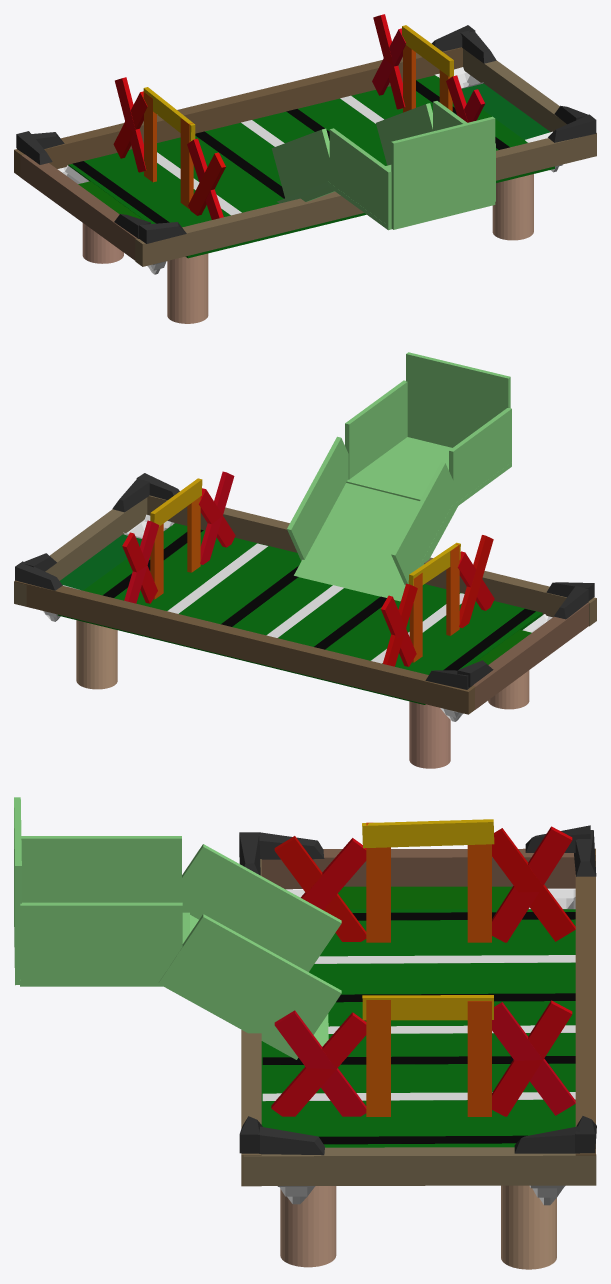
File: tablelevel5 (2).fbx
3 renders of one model, top to bottom at view 1: azimuth 30°, elevation 25°; view 2: azimuth 150°, elevation 25°; view 3: azimuth 270°, elevation 25°, orthographic. The views are drawn at different scales.
Visible parts, largest first — view 1: Cube, Cube.017, Cube.001, Cube.002, Cube.003, Cube.015, Cube.040, Cube.004, Cylinder.001, Cylinder.002, Plane.005, Cube.041 (+25 smaller); view 2: Cube, Cube.002, Cube.039, Cube.017, Cube.001, Cube.013, Cube.014, Cube.003, Cube.040, Cube.015, Cube.041, Cube.004 (+30 smaller); view 3: Cube, Cube.014, Cube.004, Cube.041, Cube.015, Cube.040, Cube.003, Cube.002, Cylinder.003, Cylinder.002, Cube.024, Cube.018 (+30 smaller).
Boxes of the visible parts, x1,y1,x2,y2 form: Cube: (68,75,554,258); Cube.017: (391,116,495,229); Cube.001: (135,133,596,266); Cube.002: (14,47,462,176); Cube.003: (20,154,137,260); Cube.015: (329,128,391,228); Cube.040: (271,128,337,201); Cube.004: (463,48,566,131); Cylinder.001: (167,253,208,323); Cylinder.002: (492,174,533,240); Plane.005: (461,83,550,140); Cube.041: (376,103,432,165); Cube: (57,523,542,704); Cube.002: (14,580,475,714); Cube.039: (294,483,452,601); Cube.017: (406,352,510,447); Cube.001: (147,495,596,626); Cube.013: (346,437,511,509); Cube.014: (345,380,407,479); Cube.003: (473,602,588,709); Cube.040: (391,462,461,584); Cube.015: (449,408,511,498); Cube.041: (287,436,348,560); Cube.004: (14,497,147,606); Cube: (261,909,575,1147); Cube.014: (20,902,182,985); Cube.004: (243,1147,596,1185); Cube.041: (158,914,341,1059); Cube.015: (21,836,181,902); Cube.040: (166,844,341,972); Cube.003: (261,848,575,889); Cube.002: (575,848,595,1155); Cylinder.003: (501,1185,556,1269); Cylinder.002: (280,1186,336,1267); Cube.024: (362,819,494,848); Cube.018: (366,1000,390,1116).
Size of the model in its own units: 173 by 80.77 by 139.
